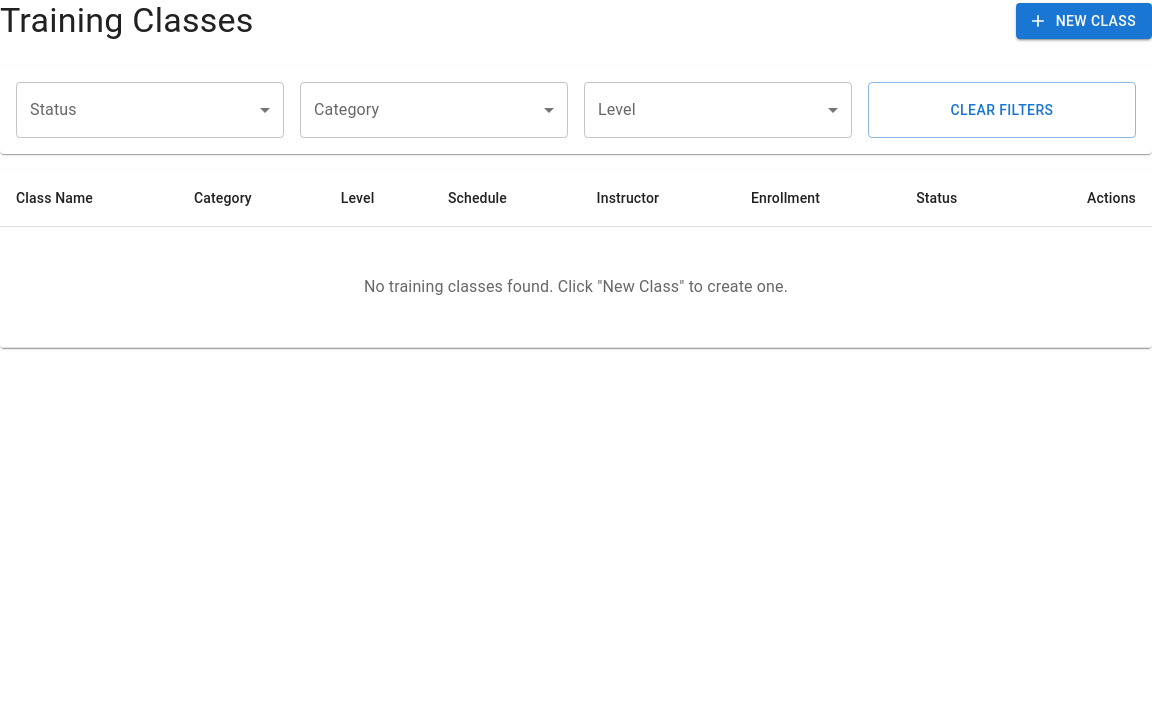
Test: TrainingClasses - Validation › Required Field Validation › should show error when total weeks is missing
The width and height of the screenshot is (1152, 720).
Click the button "New Class" at (1084,21), box 1016,3 -> 1151,39
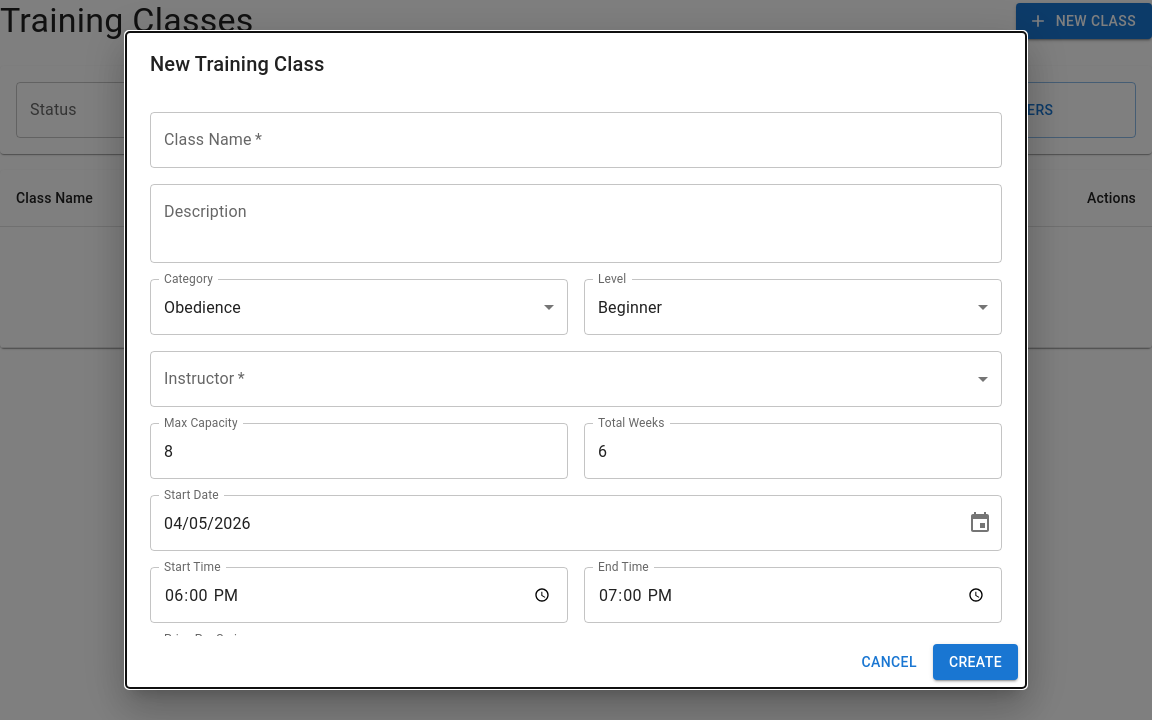
Type "Puppy Training" into the field labelled "Class Name *" at (576,140), box 150,112 -> 1002,168
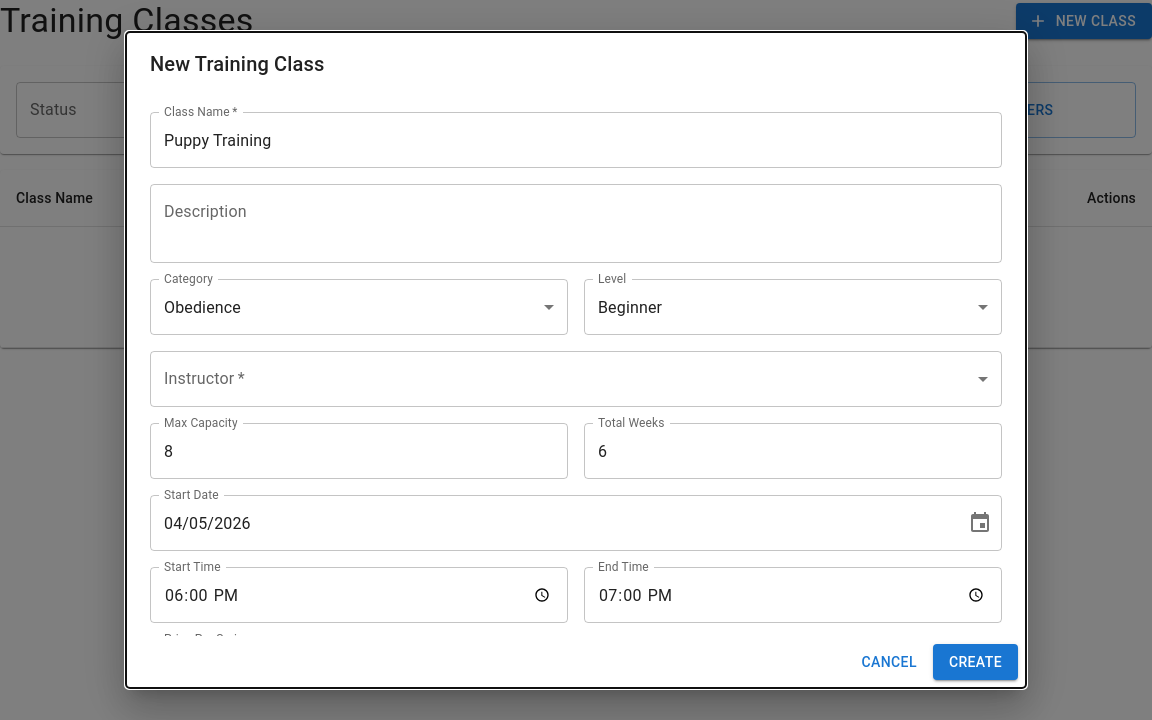
Clear the number field labelled "Total Weeks" at (793,451), box 584,423 -> 1002,479
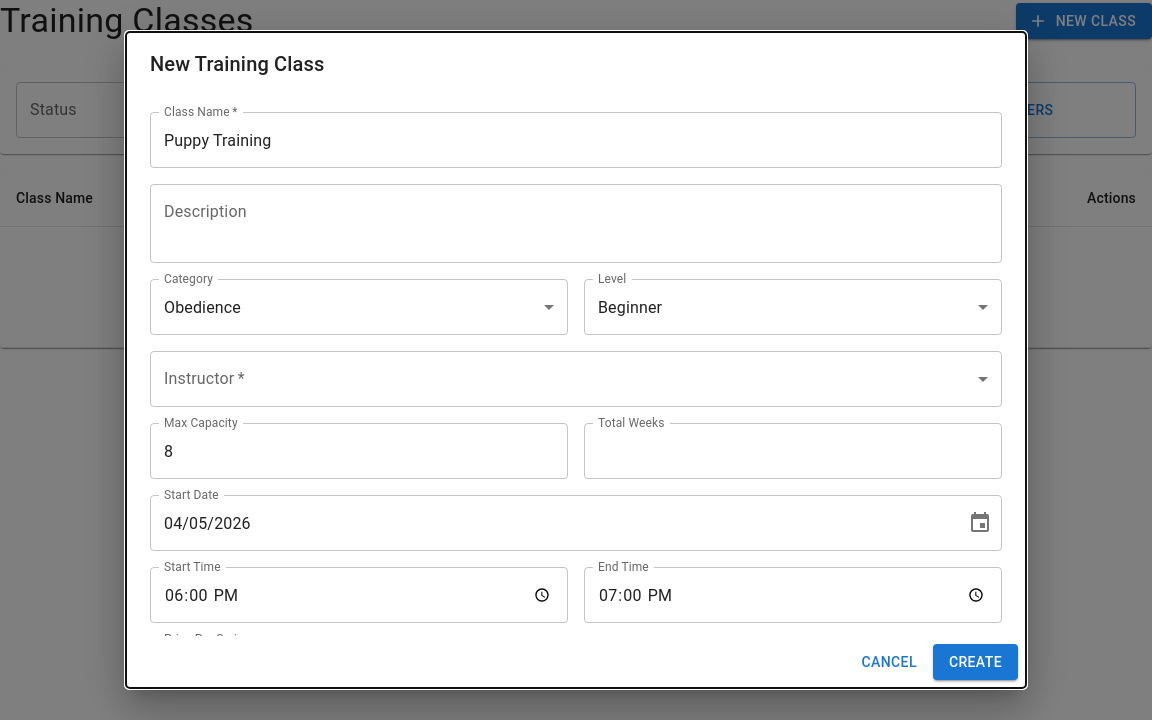
Click the button "Create" at (975,662), box 933,644 -> 1018,680
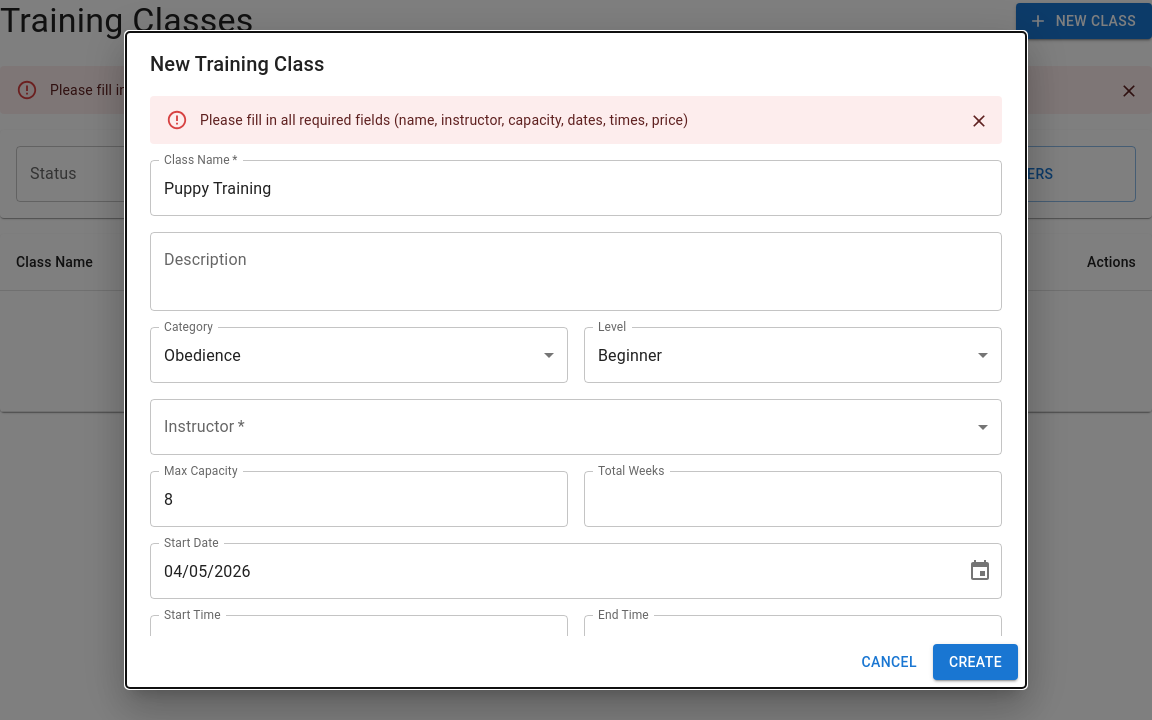
Now the 1st text "Please fill in all required fields" is shown, box 50,82 -> 538,98
